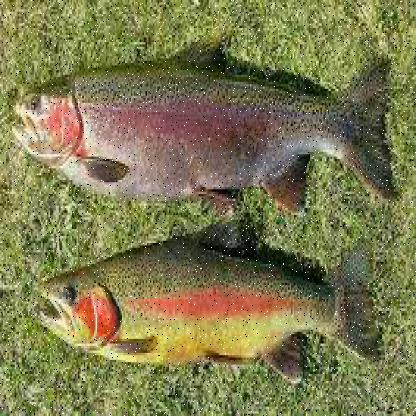fish: (8, 41, 396, 211), (32, 213, 378, 381)
